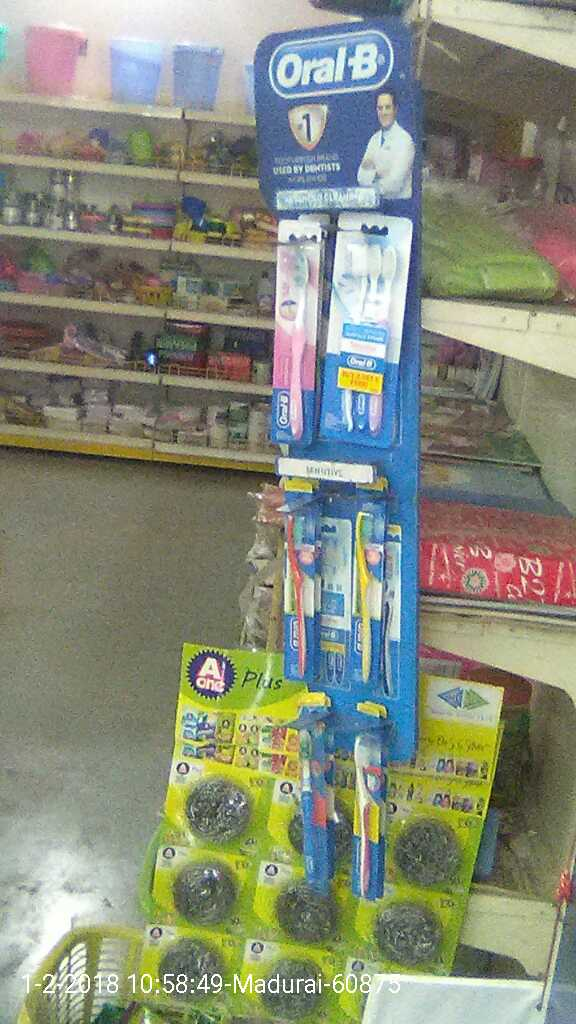oralb: (334, 220, 391, 441), (346, 502, 400, 698), (277, 235, 319, 440), (350, 728, 394, 908), (280, 513, 320, 694), (292, 729, 326, 898)
